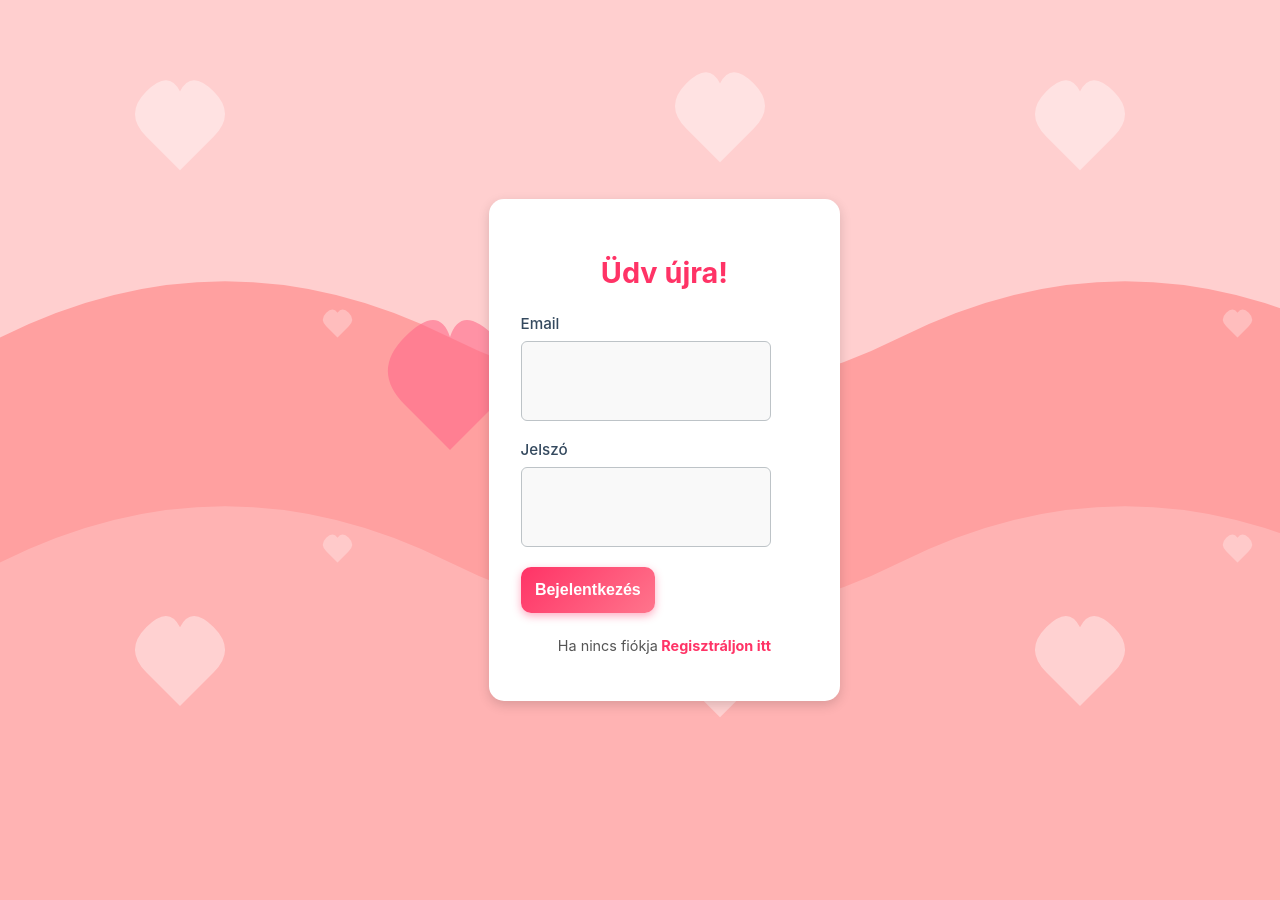
Test: Login Component › submits the form with invalid credentials and shows an error message
The width and height of the screenshot is (1280, 900).
Type "invalid@example.com" into the field labelled "Email" at (646, 381), box [520,341,770,421]
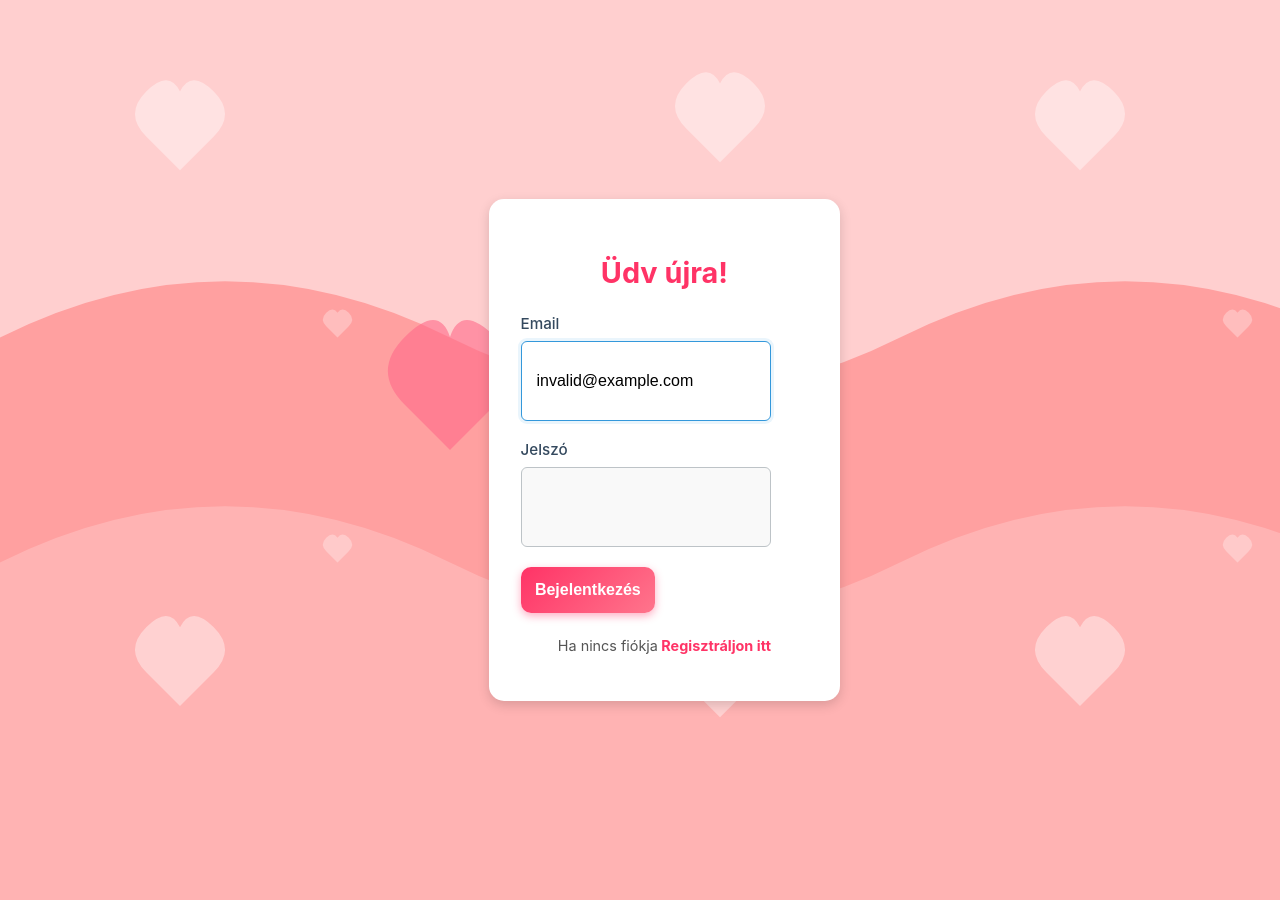
Type "wrongpassword" into the password field labelled "Jelszó" at (646, 507), box [520,467,770,547]
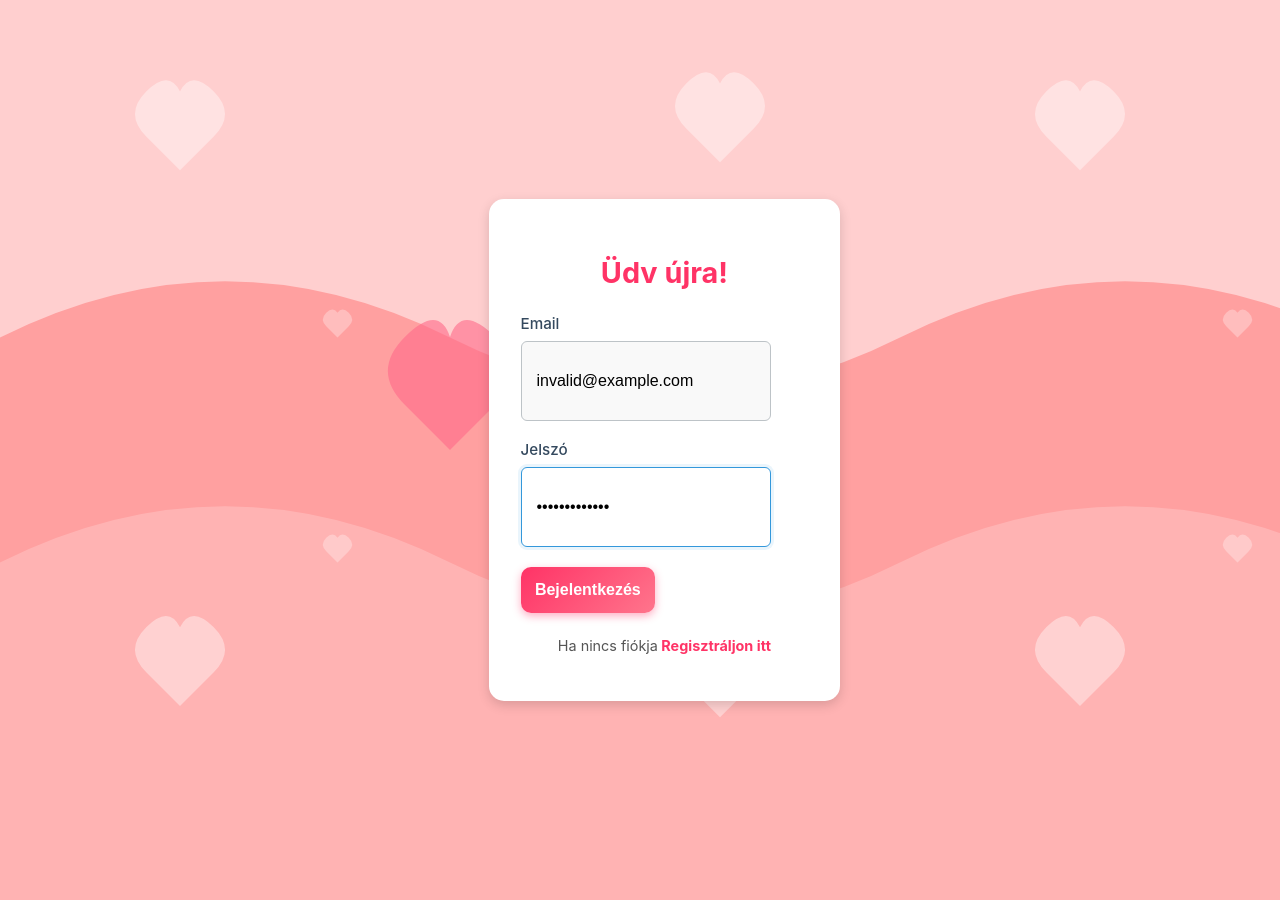
Click the button "Bejelentkezés" at (588, 590), box [520,566,655,613]
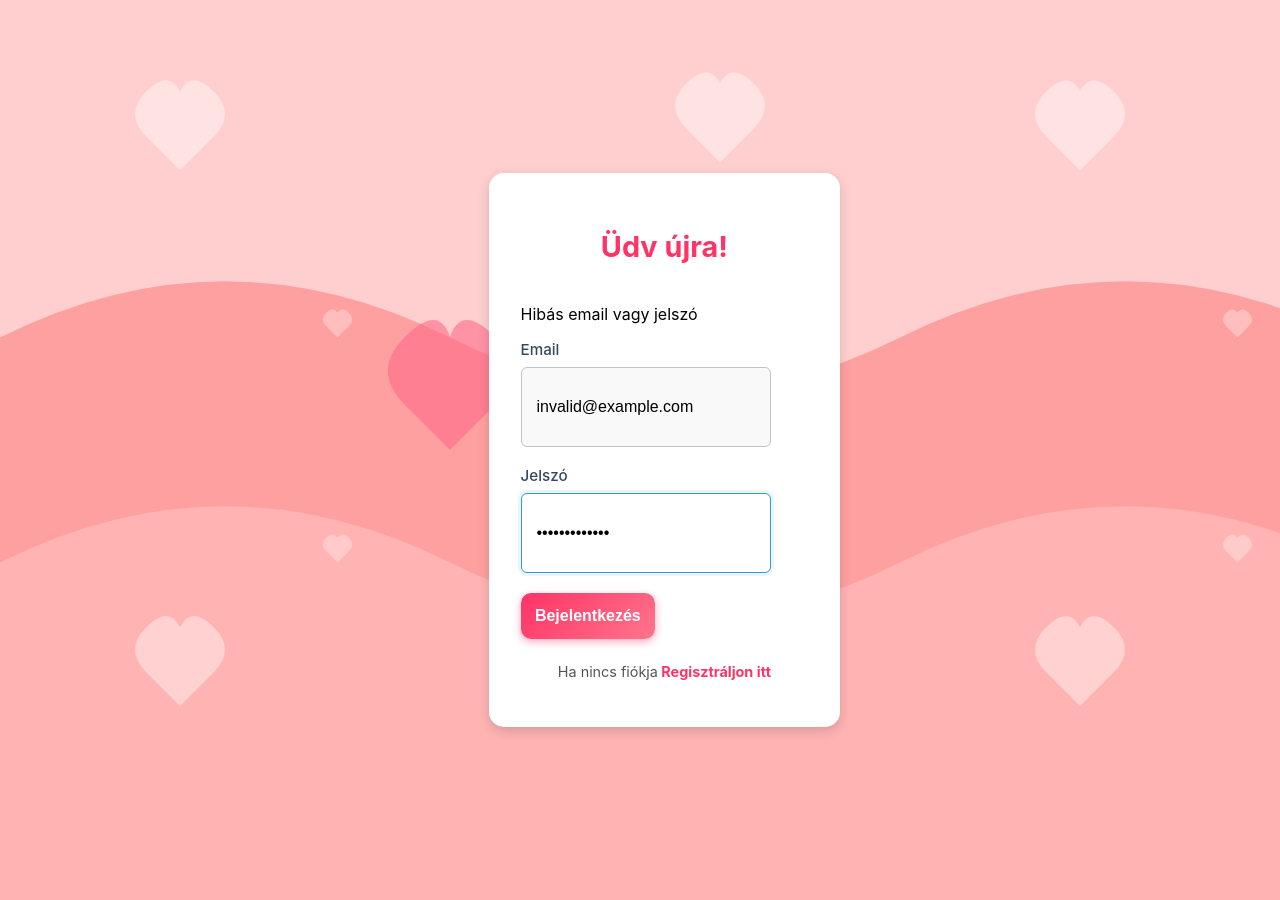
Expected: the text "Hibás email vagy jelszó" is shown, [520,304,698,324]
